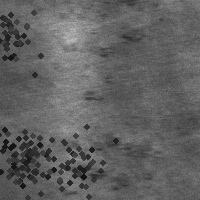rolled-in_scale: (18, 111, 126, 200), (0, 109, 69, 200), (81, 12, 140, 103), (62, 134, 151, 186), (0, 0, 52, 78)
